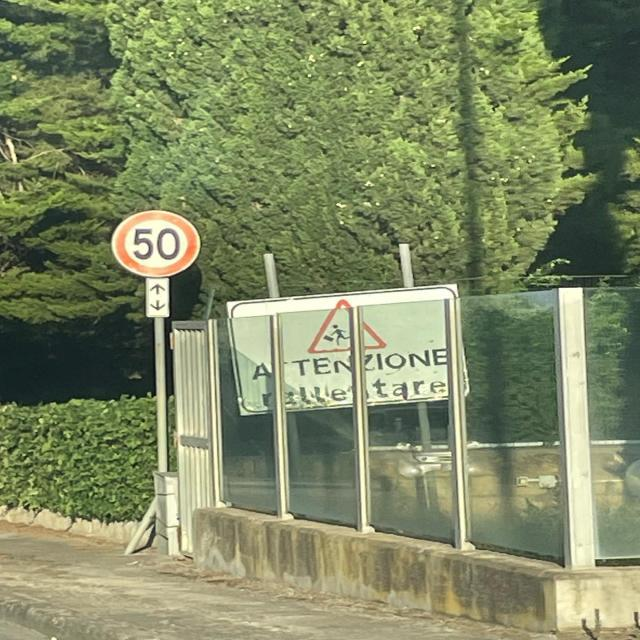forb_speed_over_50: (110, 210, 203, 279)
